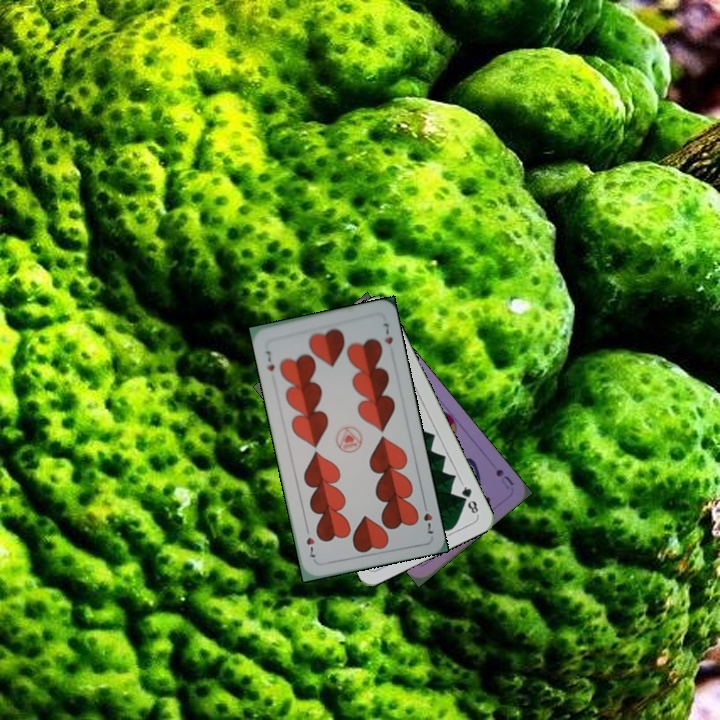G8: (457, 480, 481, 518)
H7: (419, 498, 436, 537), (262, 347, 277, 373)
SU: (492, 465, 516, 492)
